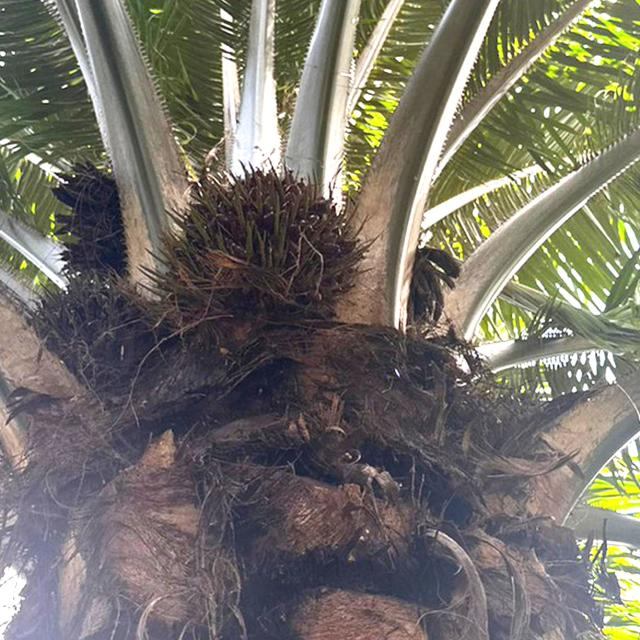ripe: (131, 144, 389, 342)
